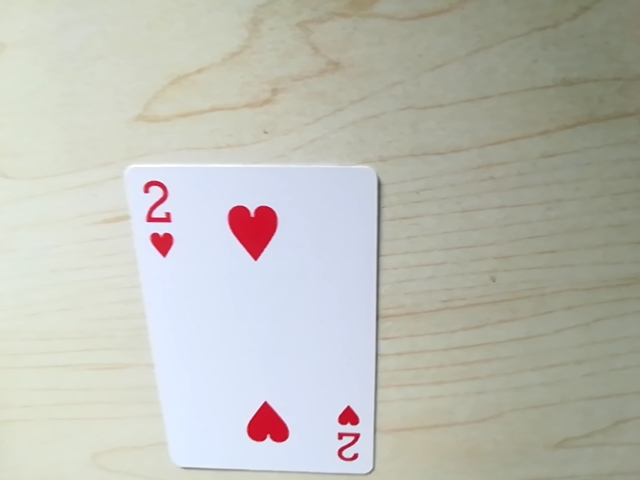hx 2: (134, 174, 181, 252), (327, 405, 367, 468)
